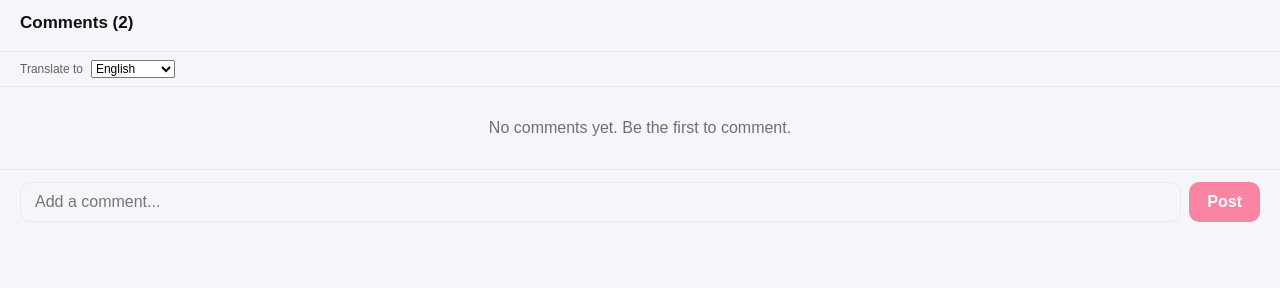
Test: CommentsPanel › posts a comment and updates the count and summary
Expected: the list item "No comments yet. Be the first to comment." is shown, [489,119,791,136]
In the field with placeholder "Add a comment...": (601, 202) [20,182,1181,222], type "Love it"
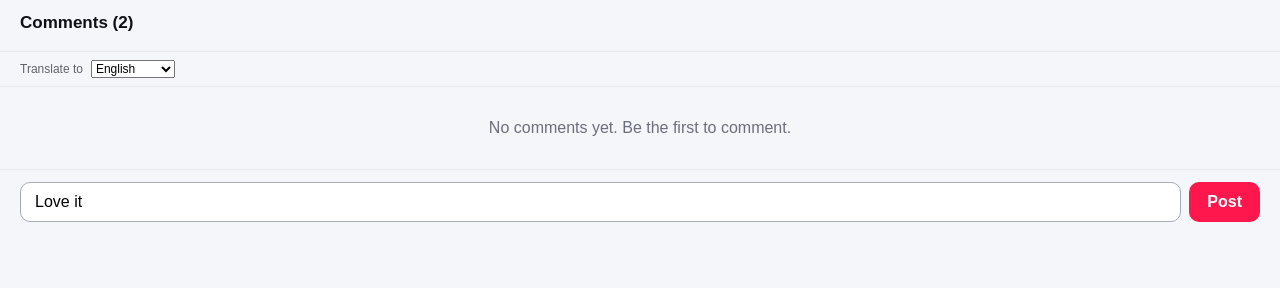
Click the button "Post": click(1225, 202) [1189,182,1260,222]
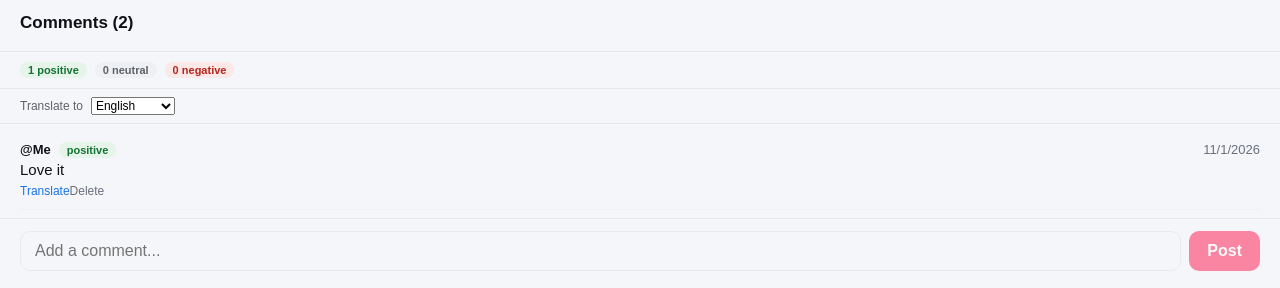
Result: the text "Love it" is shown at [20,161,64,178]
Result: the element named "Comment sentiment" shows "1 positive" at [0,52,1279,89]
